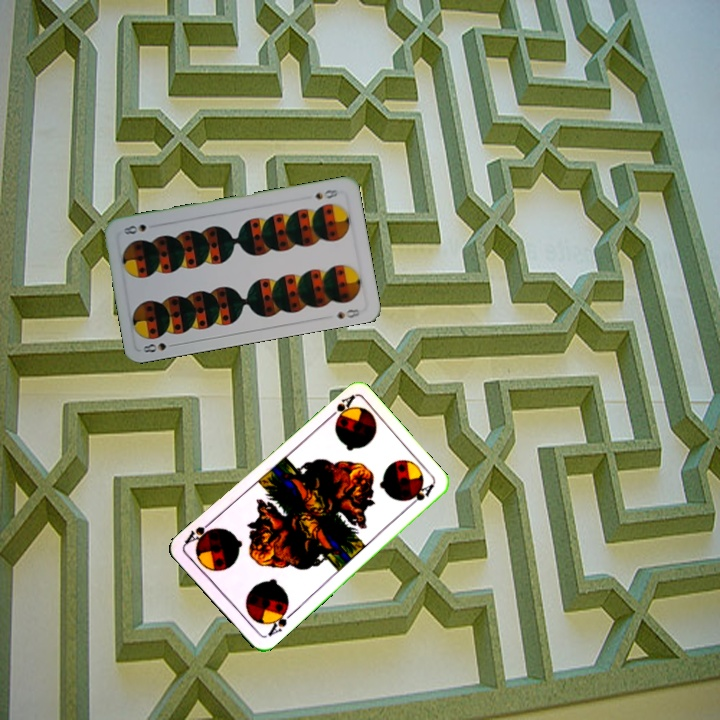S8: (139, 339, 179, 355), (311, 185, 343, 202)
SA: (264, 603, 296, 640), (323, 391, 357, 423)
